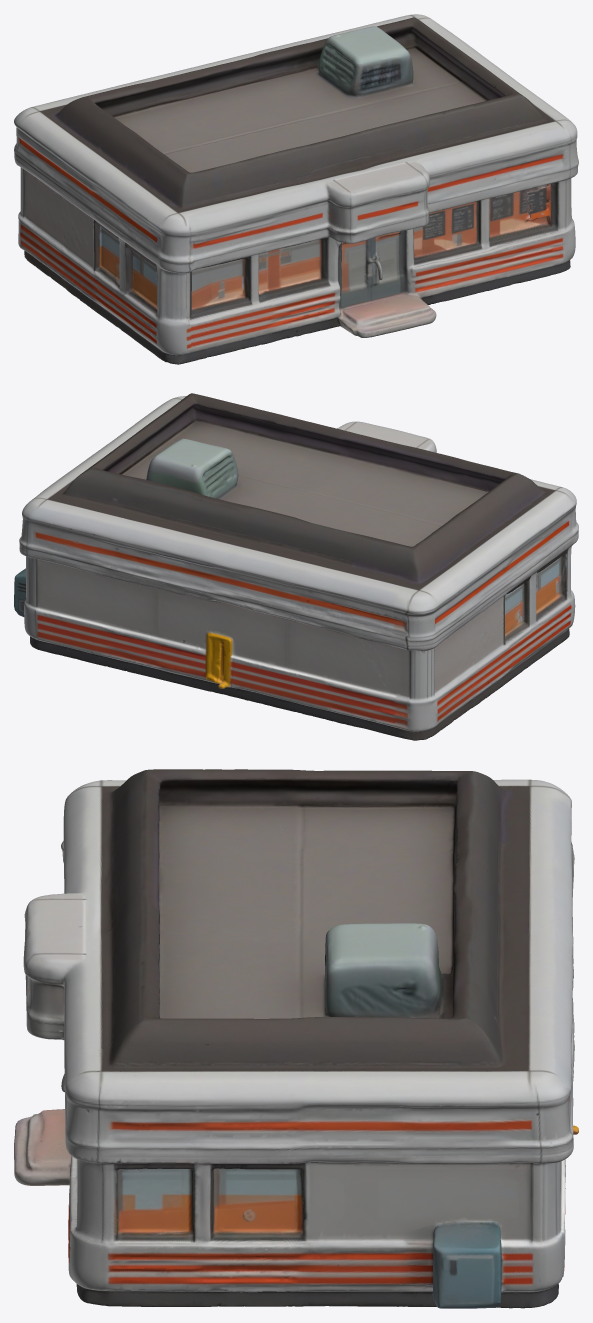
Rendered from Diner.fbx.
3 views of the same model, one above another, from view 1: azimuth 30°, elevation 25°; view 2: azimuth 150°, elevation 25°; view 3: azimuth 270°, elevation 25° (orthographic). The views are drawn at different scales.
Visible parts, largest first — view 1: Mesh_0; view 2: Mesh_0; view 3: Mesh_0.
Boxes of the visible parts, x1,y1,x2,y2 form: Mesh_0: (14,14,578,364); Mesh_0: (14,393,578,740); Mesh_0: (14,769,578,1308).
Bounding box in the file's own units: 200 × 79.75 × 143.
Materials: 1 (1 with a texture image).
